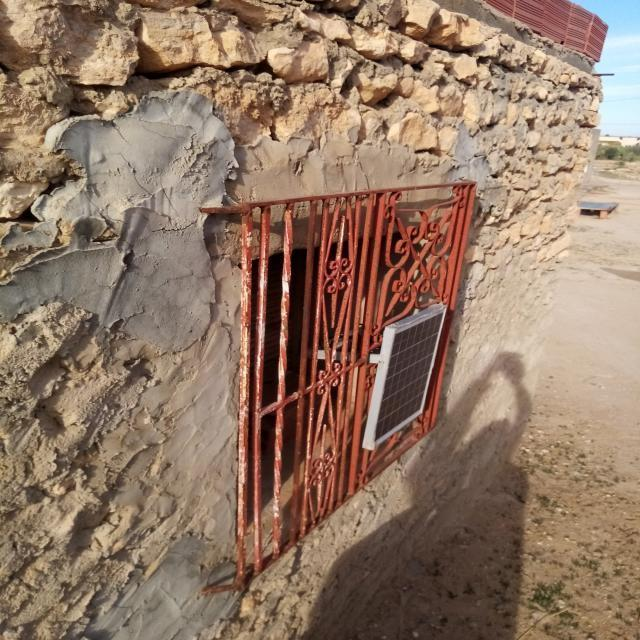Normal Solar Panel: (372, 307, 446, 449)
